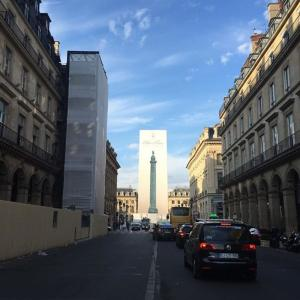Vehicle-registration-plate: (219, 253, 240, 261)
